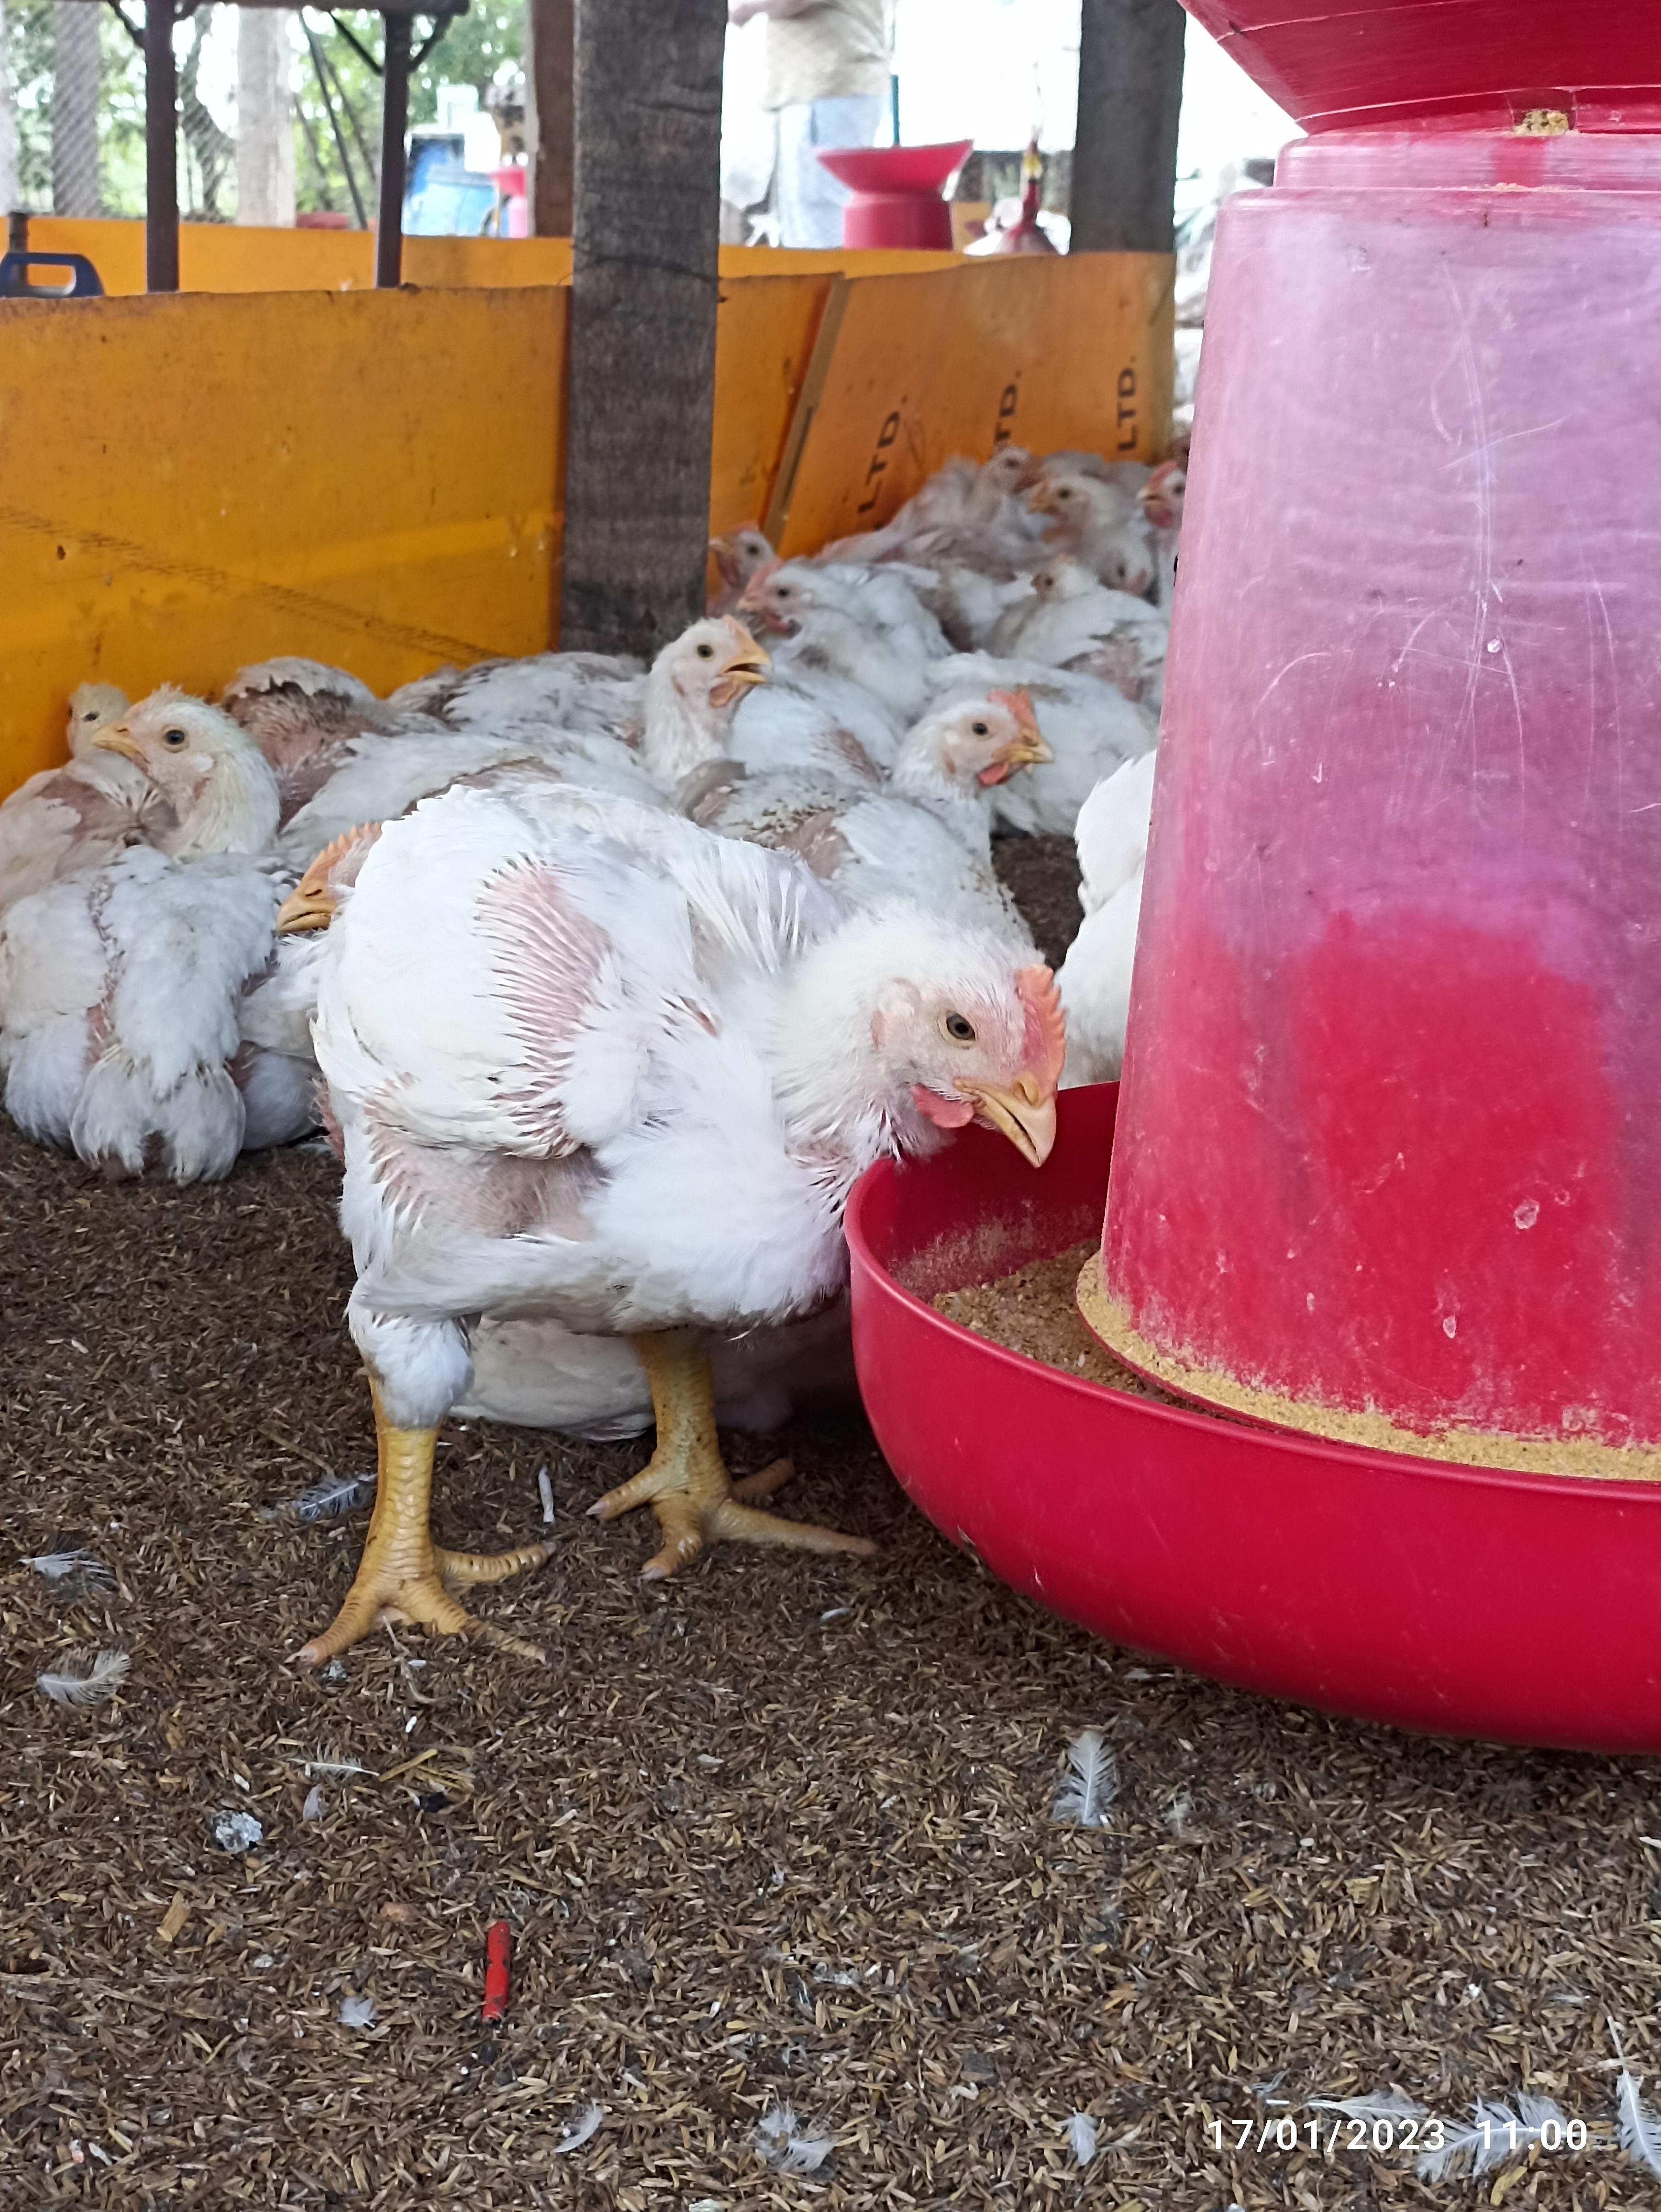Pollos: (305, 857, 1068, 1308), (33, 698, 255, 1157), (653, 607, 902, 853), (993, 466, 1169, 698), (895, 679, 1047, 867)
